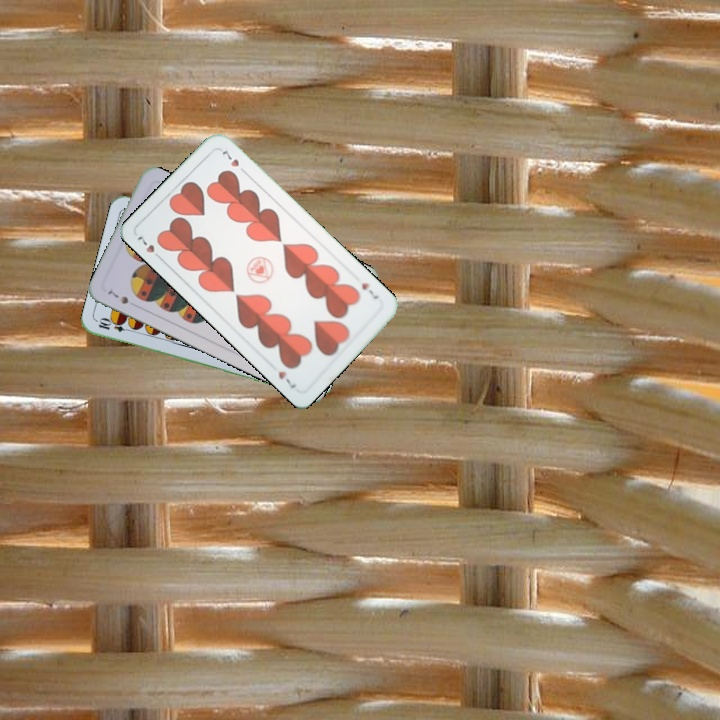E10: (94, 316, 135, 335)
H7: (133, 232, 165, 263), (358, 278, 381, 302)
S7: (104, 286, 131, 307)
